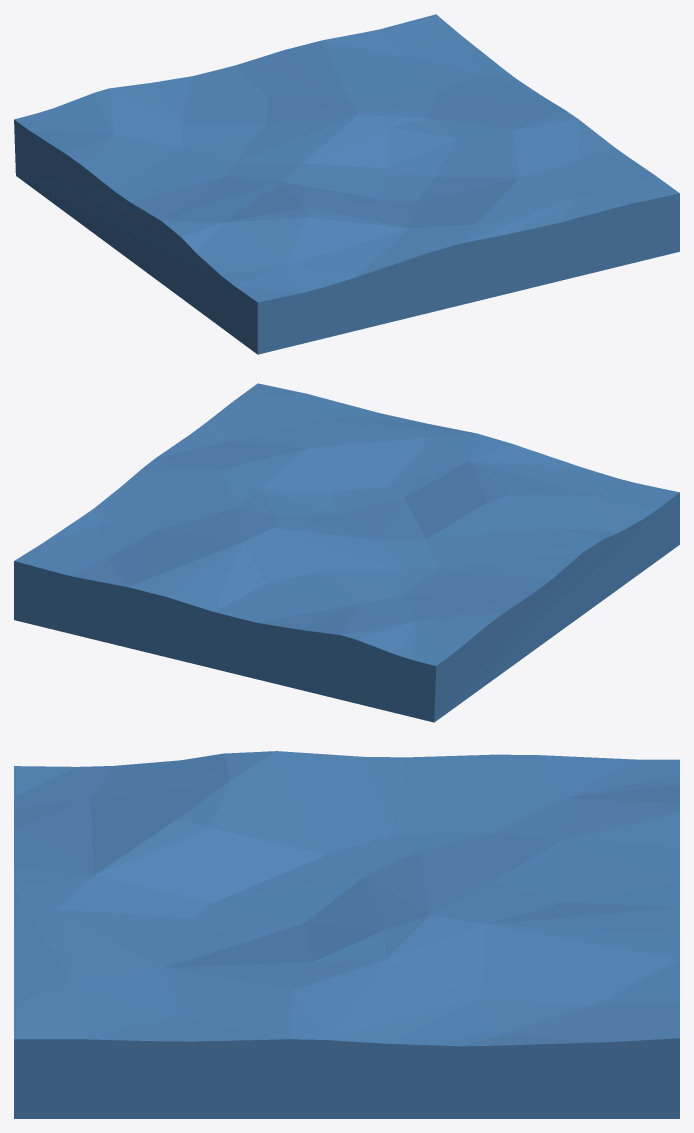
The model's file is LowPolyWater.fbx.
3 renders of one model, top to bottom at view 1: azimuth 30°, elevation 25°; view 2: azimuth 150°, elevation 25°; view 3: azimuth 270°, elevation 25°, orthographic. The views are drawn at different scales.
Parts seen in each view (by area): view 1: LowPolyWater_; view 2: LowPolyWater_; view 3: LowPolyWater_.
Boxes of the visible parts, bbox=[...] form: LowPolyWater_: bbox=[14, 14, 679, 354]; LowPolyWater_: bbox=[14, 383, 679, 722]; LowPolyWater_: bbox=[14, 751, 679, 1118].
Bounding box in the file's own units: 930 × 141 × 930.
